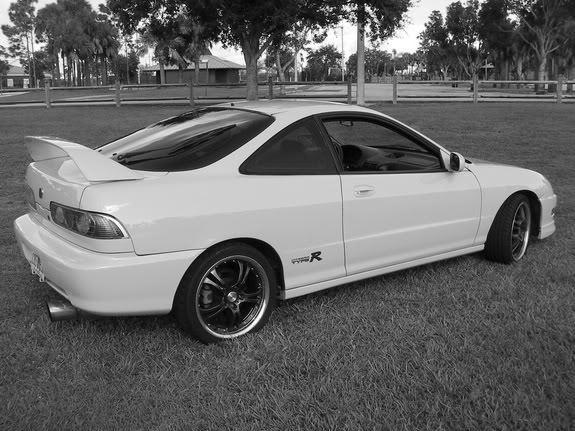car: (12, 99, 559, 348)
